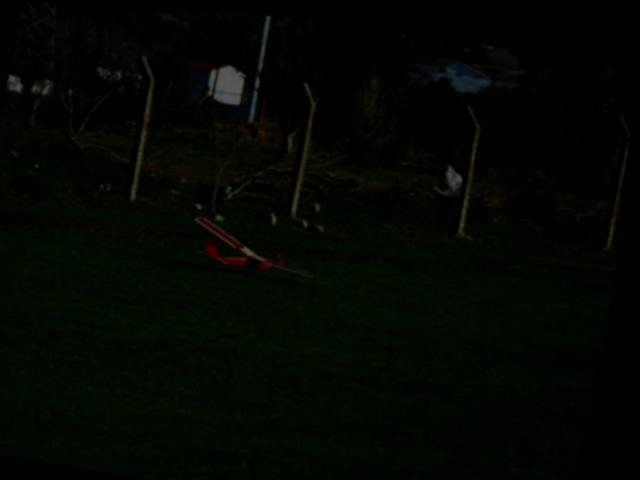iha: (175, 200, 349, 296)
